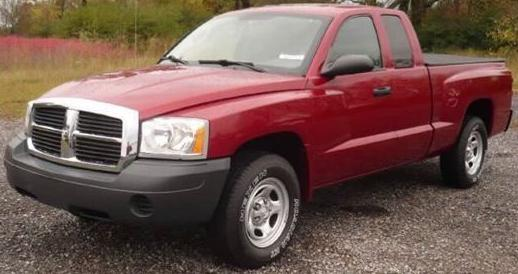front_view: (10, 100, 241, 245)
headlight: (118, 105, 213, 161)
side_glass: (317, 10, 418, 79)
